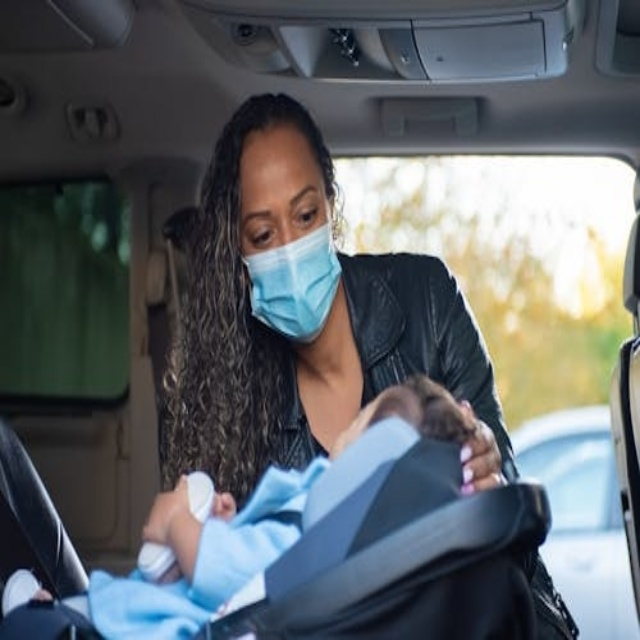Mascara: (241, 212, 344, 341)
Sin_gafas: (249, 227, 274, 247), (297, 205, 319, 227)
Sin_guantes: (138, 472, 236, 588), (458, 403, 504, 492)
